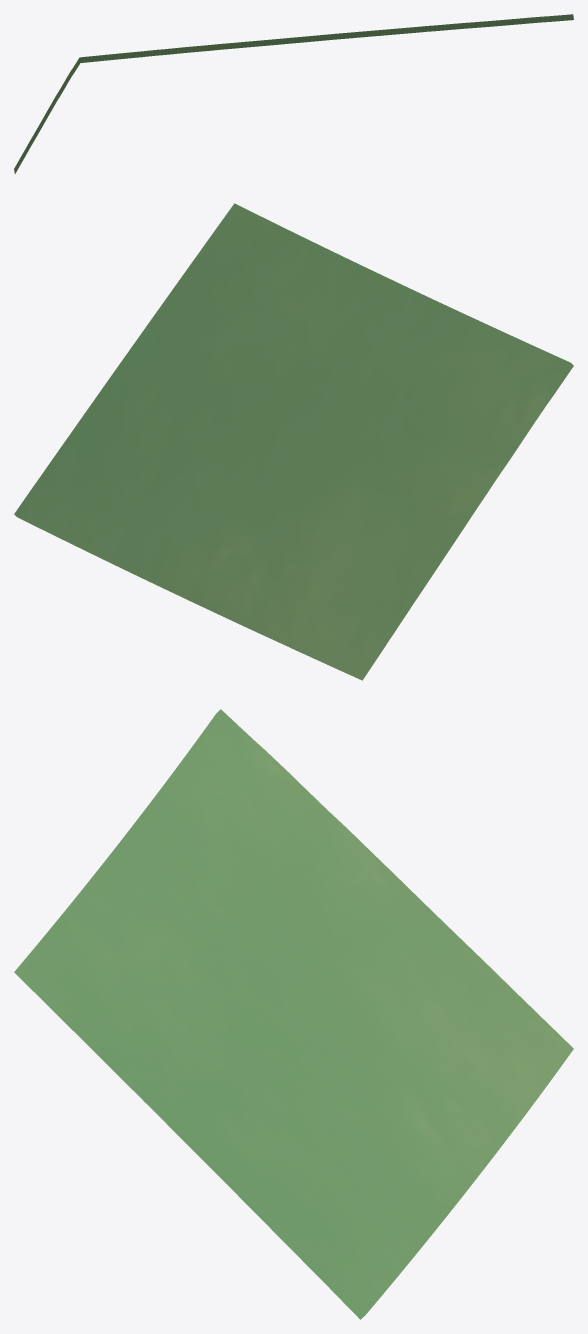
3 views of the same model, one above another, from view 1: azimuth 30°, elevation 25°; view 2: azimuth 150°, elevation 25°; view 3: azimuth 270°, elevation 25° (orthographic). The views are drawn at different scales.
Parts seen in each view (by area): view 1: geometry_0; view 2: geometry_0; view 3: geometry_0.
Boxes of the visible parts, x1,y1,x2,y2 form: geometry_0: [14, 14, 573, 173]; geometry_0: [14, 203, 573, 680]; geometry_0: [14, 709, 573, 1319].
Size of the model in its own units: 234452 by 105529 by 178128.
